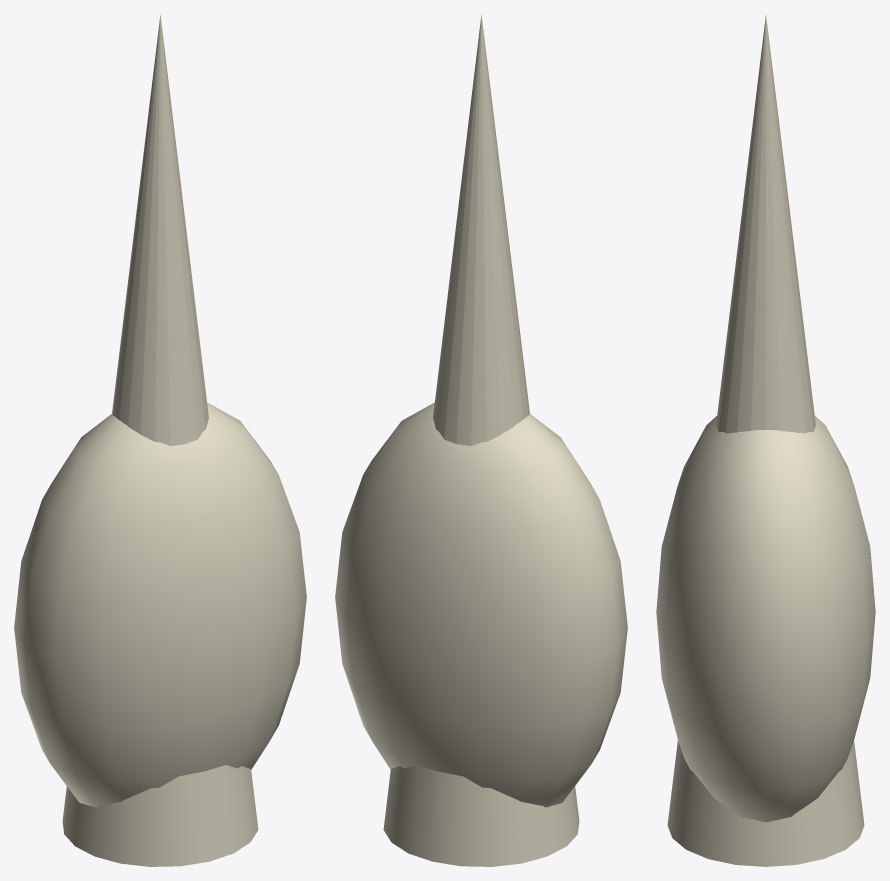
File: primitive-crafting-workshop-bone-awl-a683c4bd__21542.glb
The picture shows the model from 3 angles, left to right: view 1: azimuth 30°, elevation 25°; view 2: azimuth 150°, elevation 25°; view 3: azimuth 270°, elevation 25°; orthographic projection.
Visible parts, largest first — view 1: bone-awl; view 2: bone-awl; view 3: bone-awl.
Boxes of the visible parts, x1=… form: bone-awl: x1=14, y1=14, x2=306, y2=866; bone-awl: x1=335, y1=14, x2=627, y2=866; bone-awl: x1=656, y1=15, x2=875, y2=866.
Bounding box in the file's own units: 0.07 × 0.2 × 0.049.
